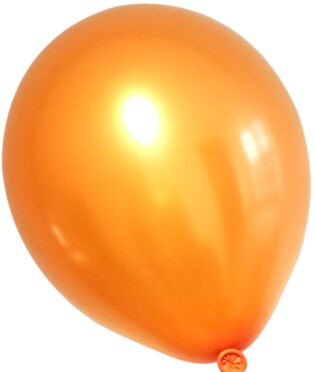Balloon: (3, 4, 312, 363)
